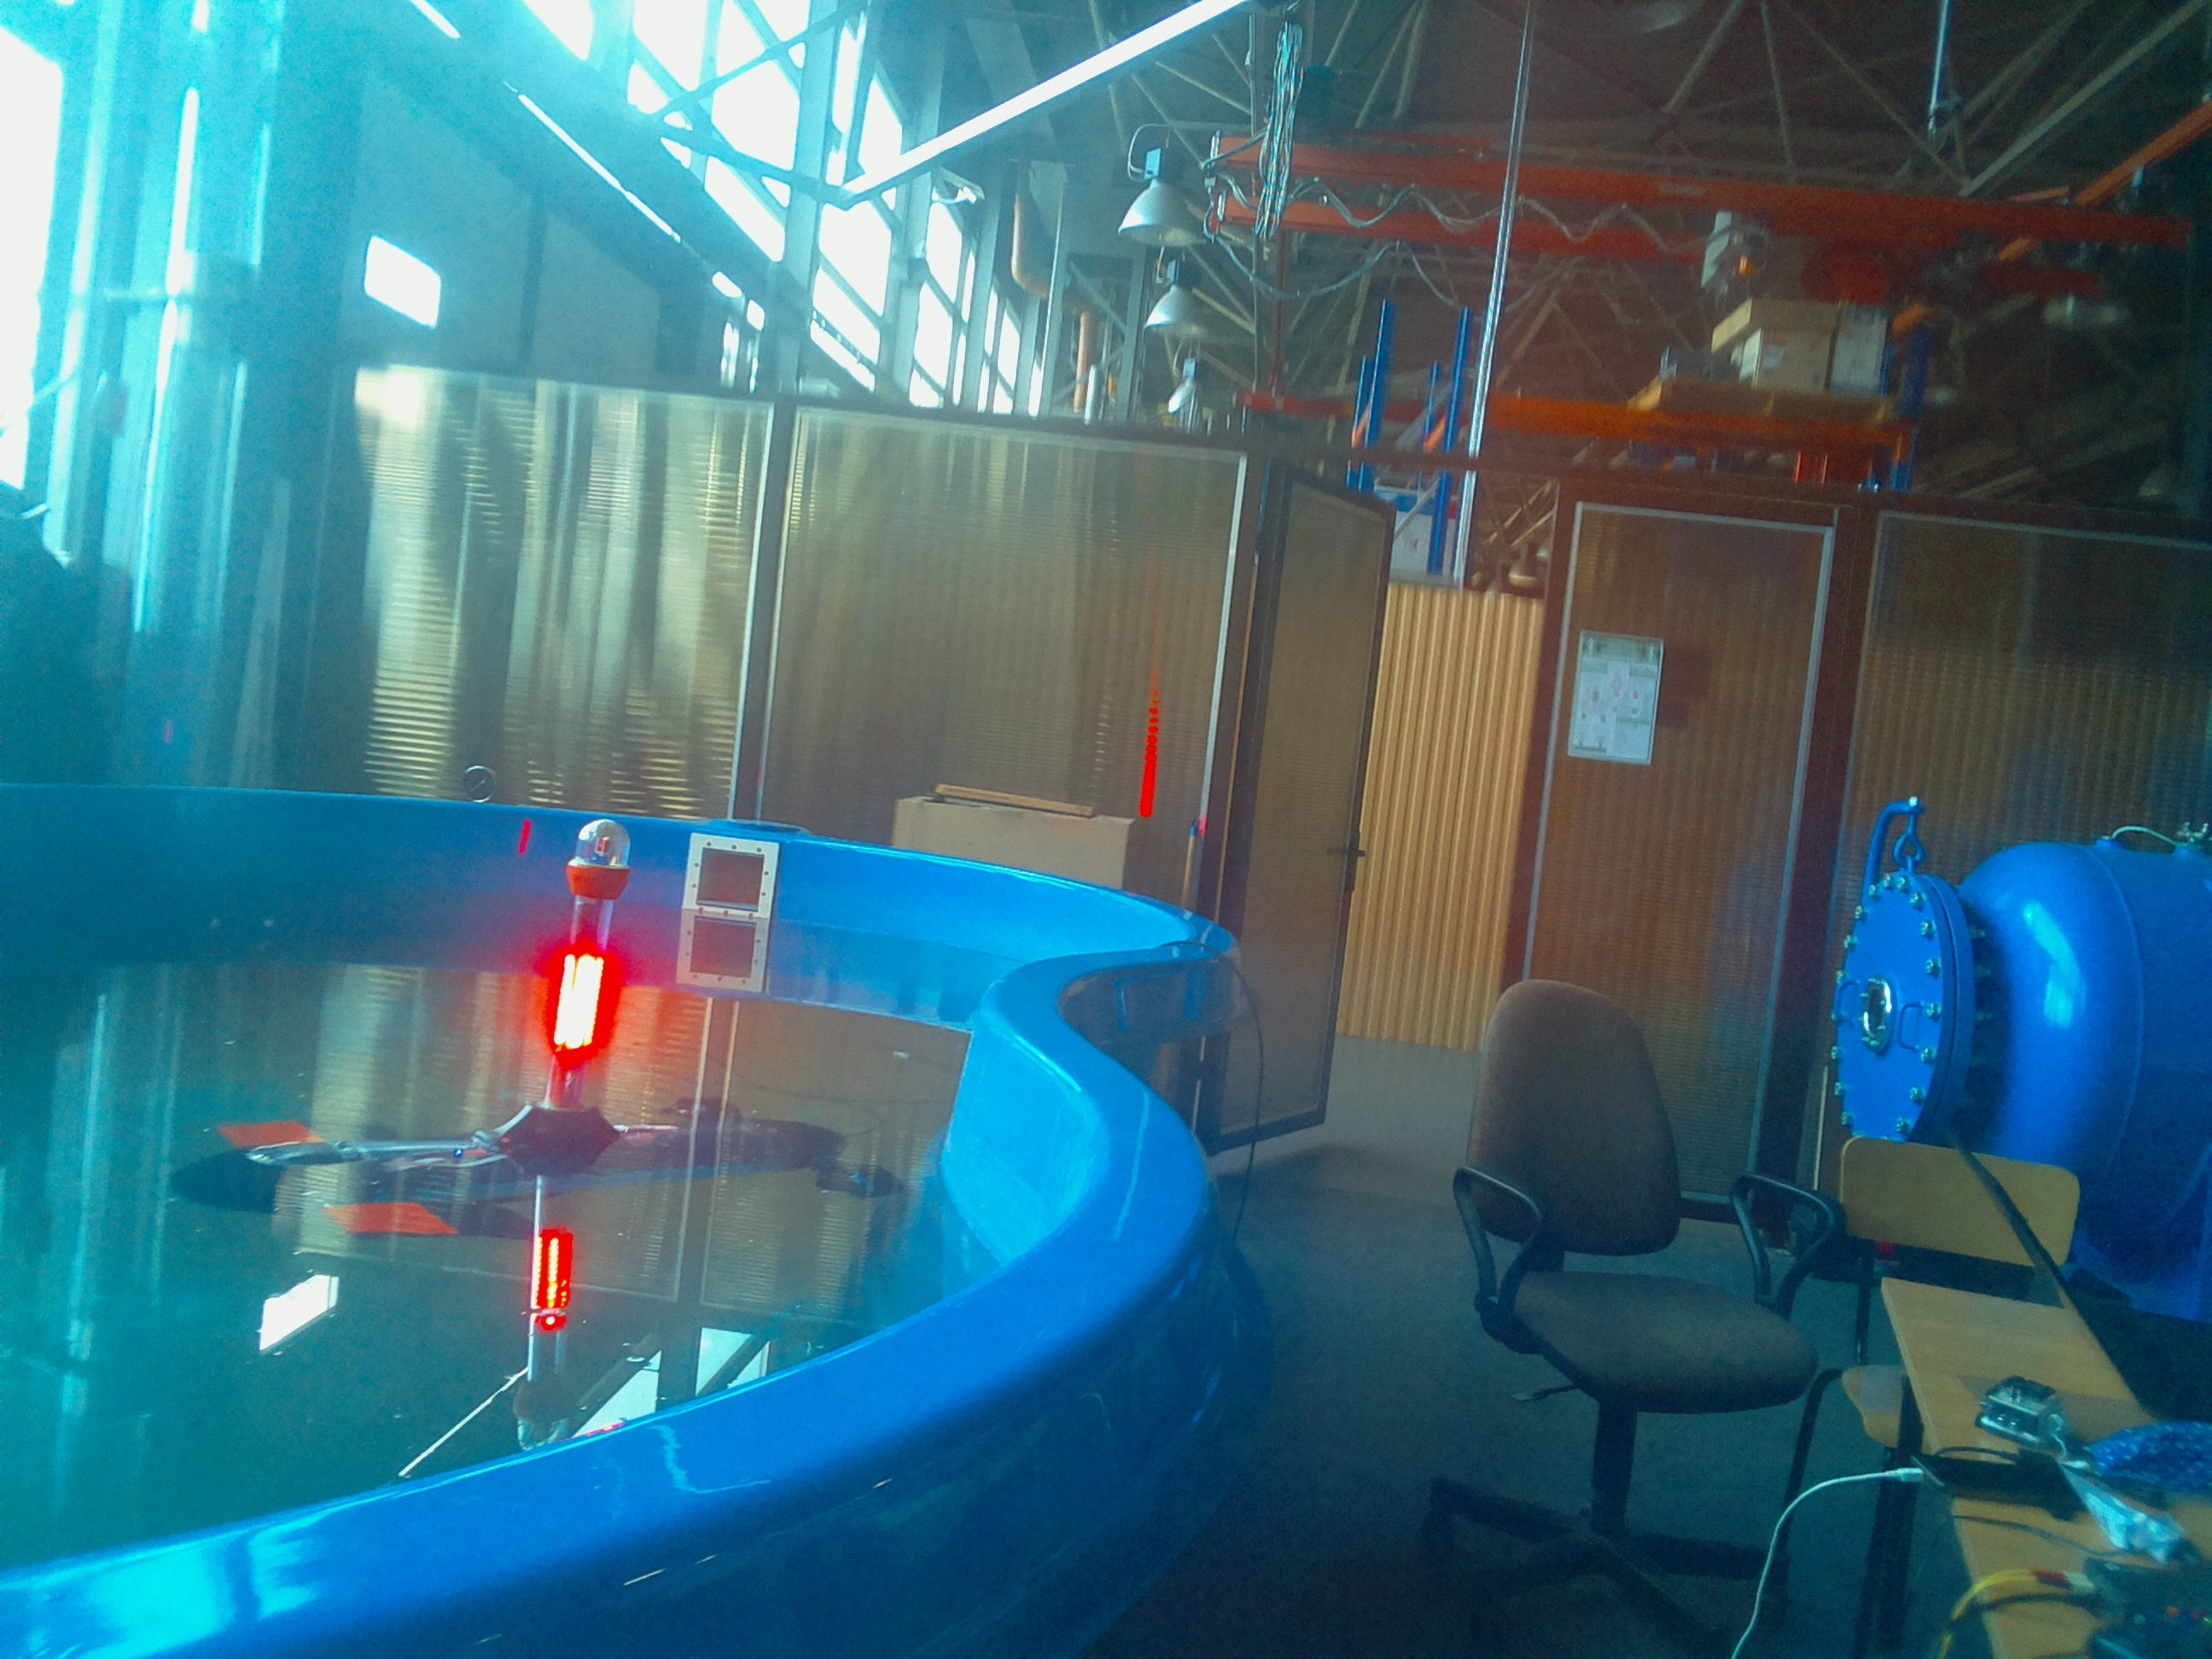red: (547, 871, 624, 1101)
